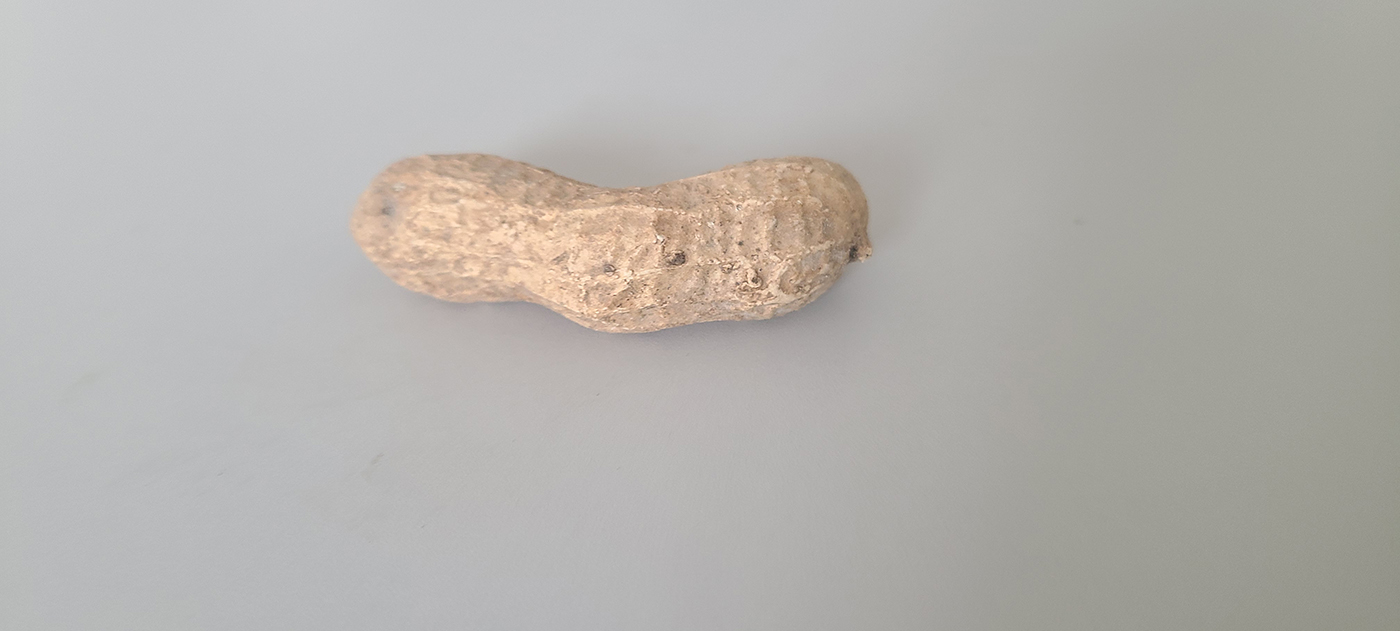h: (346, 149, 874, 332)
